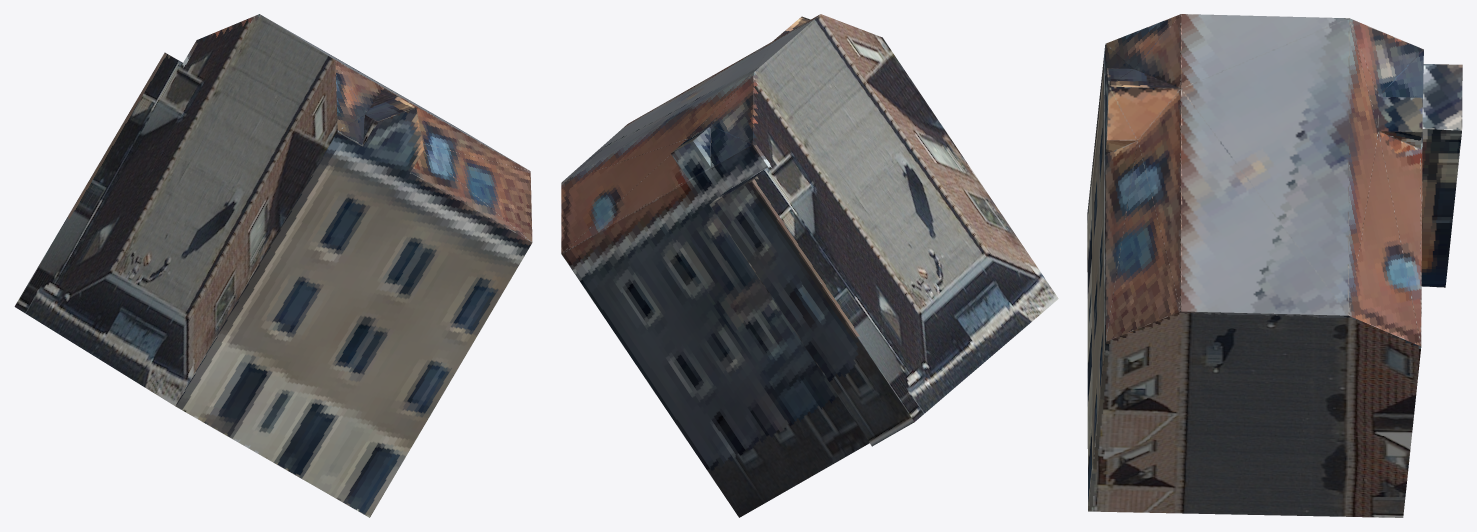
The picture shows the model from 3 angles, left to right: view 1: azimuth 30°, elevation 25°; view 2: azimuth 150°, elevation 25°; view 3: azimuth 270°, elevation 25°; orthographic projection. The views are drawn at different scales.
Visible parts, largest first — view 1: BAG_0599100000688681 (×4); view 2: BAG_0599100000688681 (×4); view 3: BAG_0599100000688681 (×5).
Part boxes in pixels (<box>): BAG_0599100000688681 (×4): <box>14,14,532,517</box>; BAG_0599100000688681 (×4): <box>561,14,1058,517</box>; BAG_0599100000688681 (×5): <box>1087,14,1462,517</box>.
Size of the model in its own units: 15.75 by 16.3 by 10.84.
Materials: 5 (5 with a texture image).
